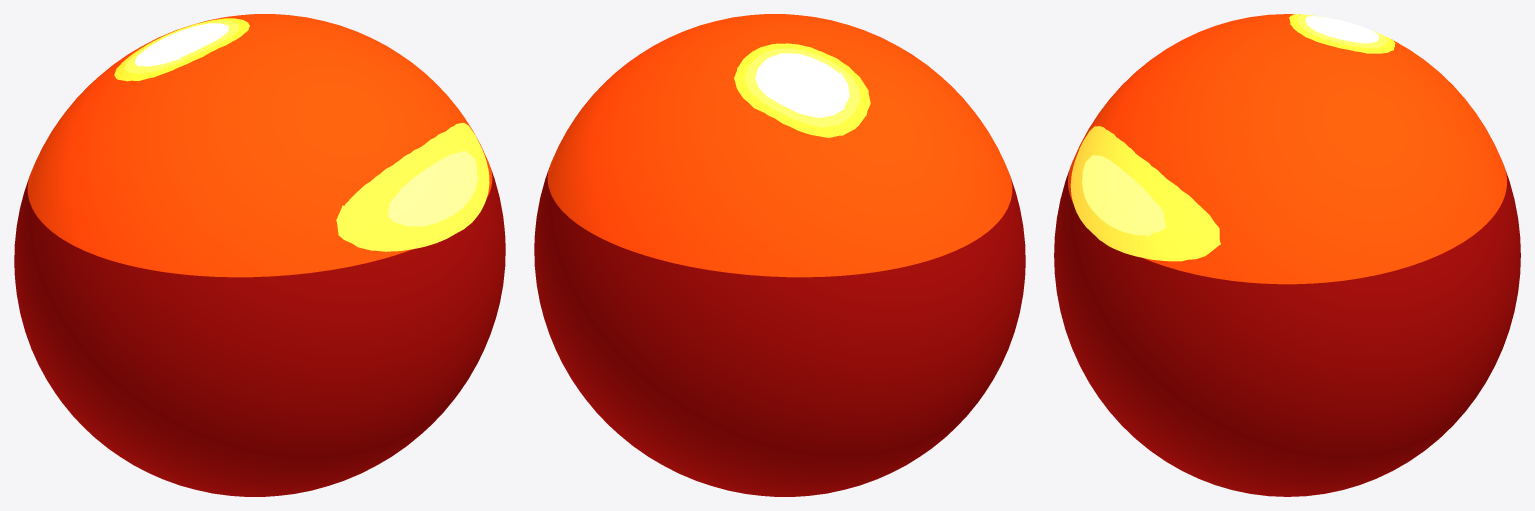
File: fire_orb_239.glb
3 renders of one model, left to right at view 1: azimuth 30°, elevation 25°; view 2: azimuth 150°, elevation 25°; view 3: azimuth 270°, elevation 25°, orthographic.
Parts seen in each view (by area): view 1: fire_orb_239; view 2: fire_orb_239; view 3: fire_orb_239.
Boxes of the visible parts, bbox=[...] form: fire_orb_239: bbox=[14, 14, 505, 496]; fire_orb_239: bbox=[534, 14, 1025, 496]; fire_orb_239: bbox=[1054, 14, 1520, 496].
Size of the model in its own units: 18 by 17.5 by 17.
